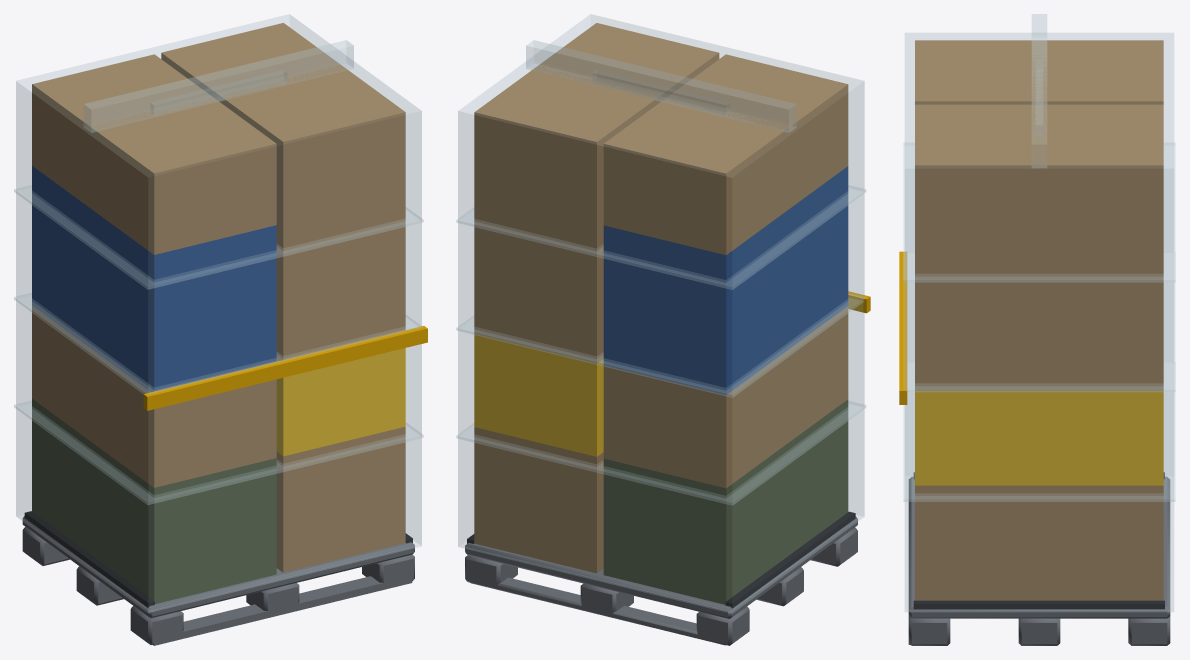
File: pallet_wrapped_tall_mixed.glb
3 renders of one model, left to right at view 1: azimuth 30°, elevation 25°; view 2: azimuth 150°, elevation 25°; view 3: azimuth 270°, elevation 25°, orthographic.
Parts seen in each view (by area): view 1: pallet_wrapped_tall_mixed; view 2: pallet_wrapped_tall_mixed; view 3: pallet_wrapped_tall_mixed.
Boxes of the visible parts, <box> form: pallet_wrapped_tall_mixed: <box>14,14,427,645</box>; pallet_wrapped_tall_mixed: <box>456,14,870,645</box>; pallet_wrapped_tall_mixed: <box>899,14,1175,645</box>.
Bounding box in the file's own units: 1.26 × 2.12 × 1.05.
